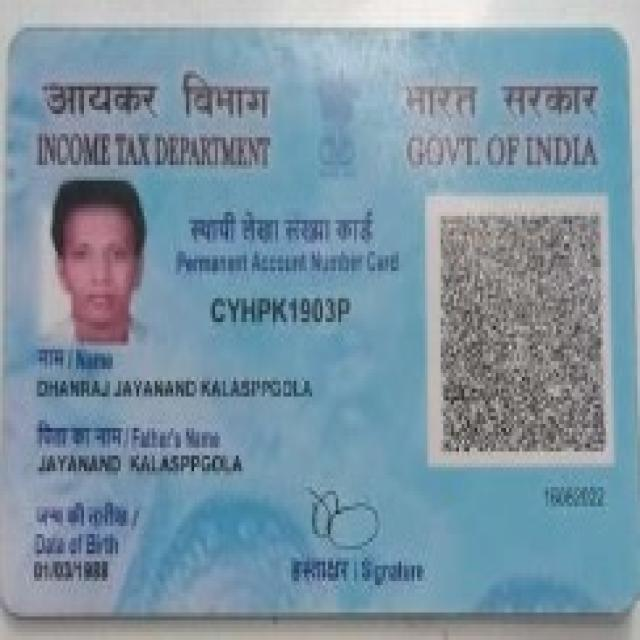pan_card: (2, 29, 634, 612)
